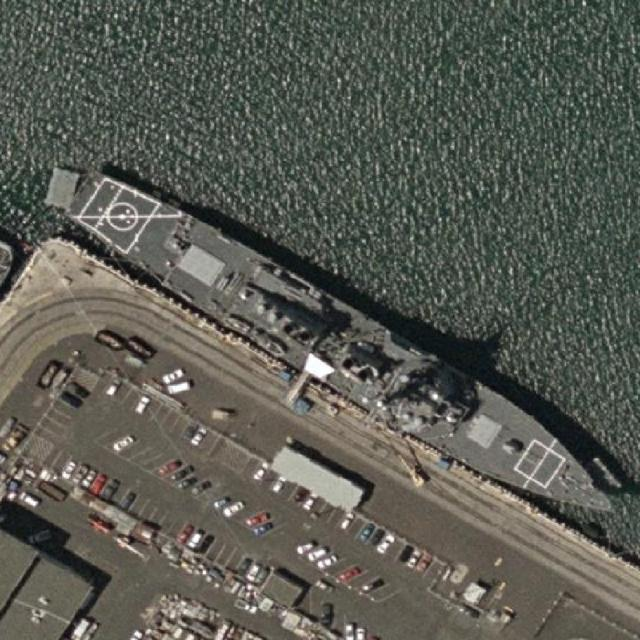Destroyer: (56, 158, 631, 546)
